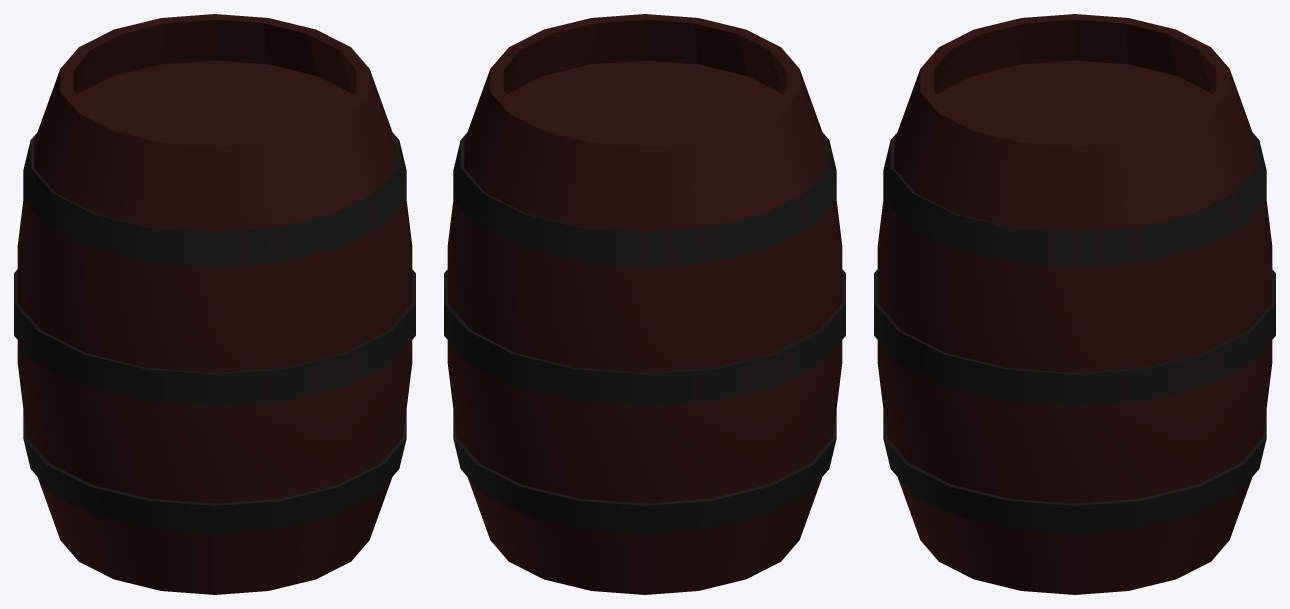
Rendered from barrell.FBX.
The picture shows the model from 3 angles, left to right: view 1: azimuth 30°, elevation 25°; view 2: azimuth 150°, elevation 25°; view 3: azimuth 270°, elevation 25°; orthographic projection.
Visible parts, largest first — view 1: Cylinder001; view 2: Cylinder001; view 3: Cylinder001.
Boxes of the visible parts, box(x1,y1,x2,y2) form: Cylinder001: box(14, 14, 415, 594); Cylinder001: box(444, 14, 845, 594); Cylinder001: box(874, 14, 1275, 594).
Bounding box in the file's own units: 82.53 × 81.28 × 100.
